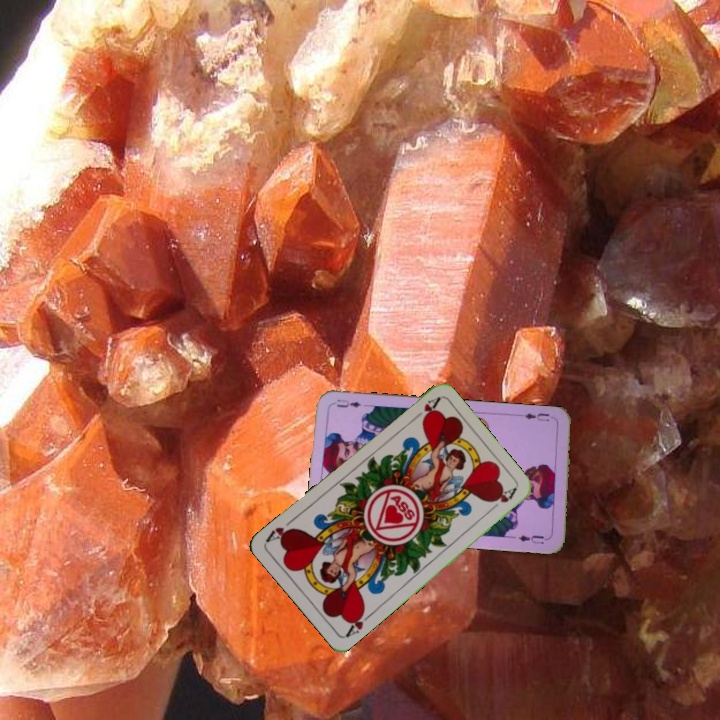EU: (520, 409, 558, 424)
HA: (342, 606, 375, 640), (407, 393, 442, 424)
